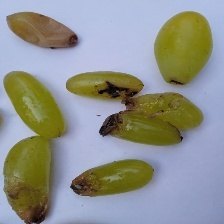grapes: (3, 0, 199, 193)
